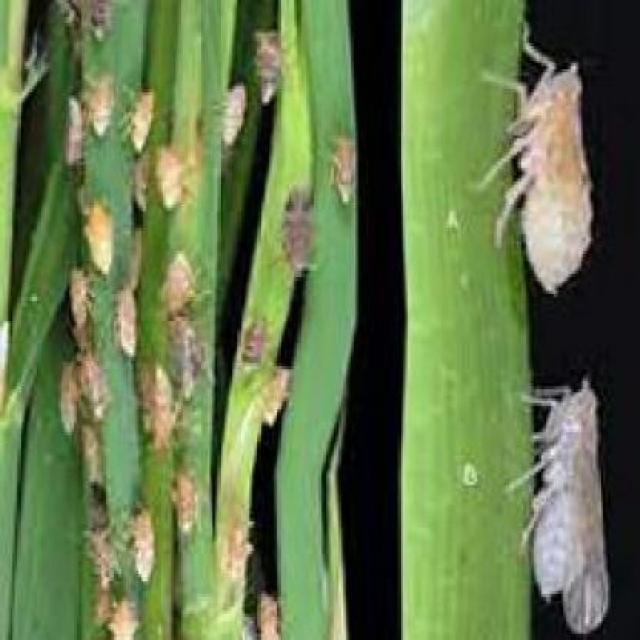brown-planthopper: (502, 44, 592, 296), (523, 380, 606, 628), (324, 134, 358, 206), (142, 374, 172, 446), (111, 287, 140, 358), (164, 256, 198, 316), (132, 517, 162, 585), (88, 201, 115, 274), (220, 79, 248, 146), (152, 151, 185, 206), (86, 74, 114, 138), (222, 524, 252, 578), (263, 364, 288, 428), (172, 474, 198, 532), (70, 268, 92, 335), (106, 597, 139, 640), (60, 364, 78, 434), (243, 314, 266, 364)
